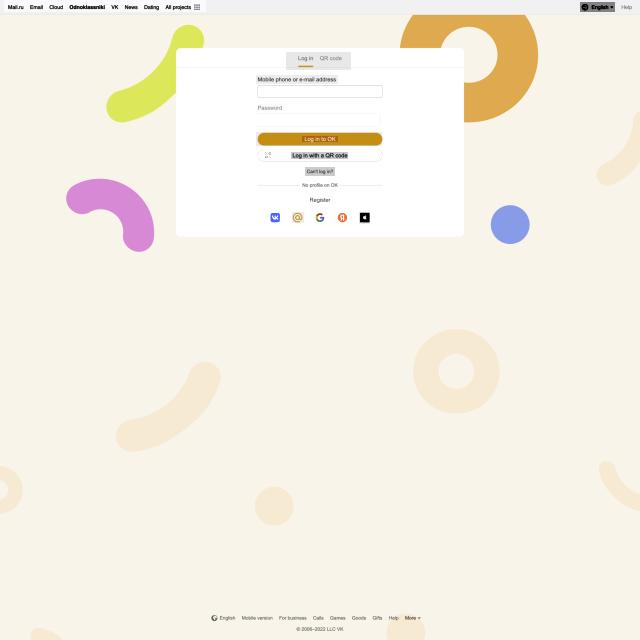CheckBox: (256, 132, 382, 146), (257, 148, 383, 162), (300, 193, 340, 207), (305, 167, 335, 176)
CheckedTextView: (257, 84, 384, 99), (257, 113, 383, 128)
alert: (580, 2, 615, 12)
bag: (0, 0, 640, 15)
carousel: (292, 212, 304, 223), (314, 212, 326, 223), (359, 212, 370, 224), (270, 212, 281, 223), (337, 212, 348, 223), (264, 151, 272, 159)
data feed: (256, 75, 338, 84), (291, 152, 348, 159), (302, 136, 338, 142), (257, 104, 286, 111)
decoration: (4, 1, 206, 12)
icon: (286, 52, 351, 70)
